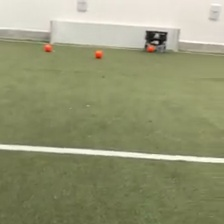ball: (43, 42, 53, 52), (94, 49, 103, 58), (146, 44, 154, 52)
goal: (49, 17, 181, 54)
robot: (144, 28, 169, 53)
